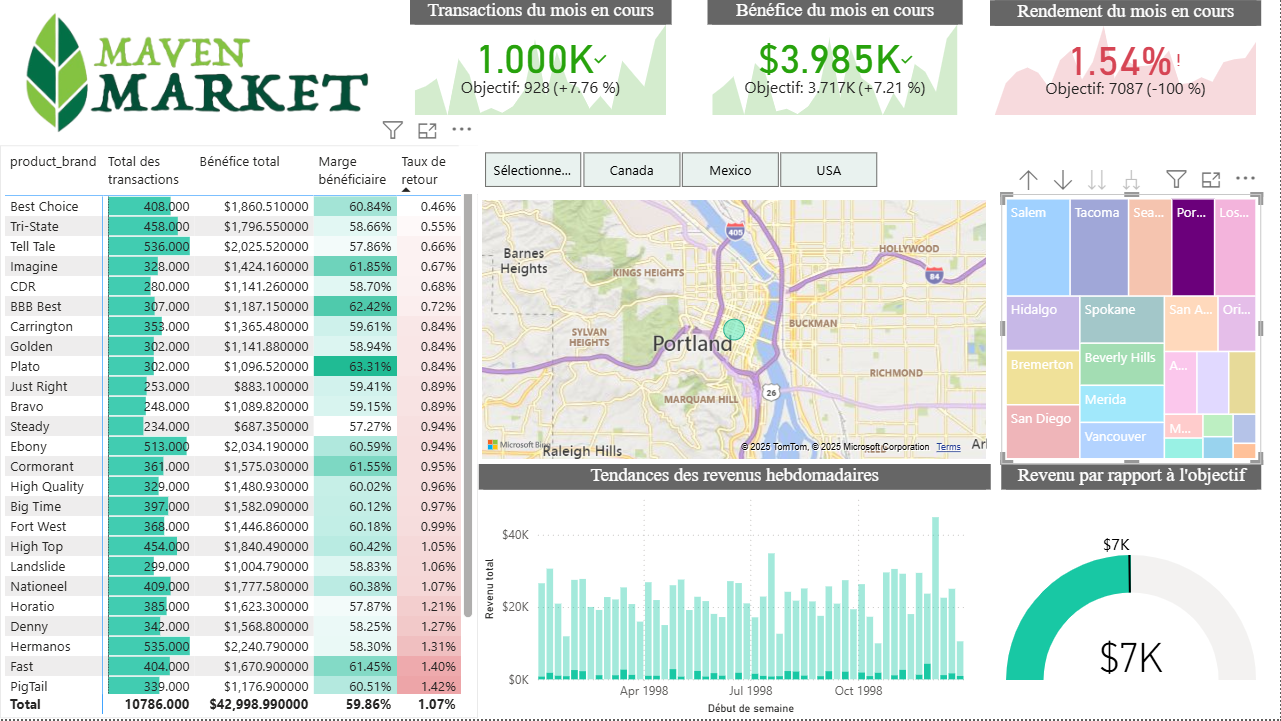

Layout of this report page (visuals, bound fields, positions):
{"tool":"powerbi","page":{"name":"Topline Performance","canvas":[1280,720],"ordinal":0},"visuals":[{"type":"pivotTable","fields":{"Rows":["Produits.product_brand"],"Values":["Transaction_Data.Total des transactions","Transaction_Data.Bénéfice total","Transaction_Data.Marge bénéficiaire","Return_Data.Taux de retour"]},"box":[0,146.2,477.5,573.8],"z":0},{"type":"kpi","title":"Transactions du mois en cours","fields":{"Indicator":["Transaction_Data.Total des transactions"],"TrendLine":["Calendrier.Début de mois"],"Goal":["Transaction_Data.Transactions du mois dernier"]},"box":[410,0,261.2,121.2],"z":1000},{"type":"kpi","title":"Bénéfice du mois en cours","fields":{"TrendLine":["Calendrier.Début de mois"],"Indicator":["Transaction_Data.Bénéfice total"],"Goal":["Transaction_Data.Bénéfice du mois dernier"]},"box":[707.5,0,255,121.2],"z":2000},{"type":"kpi","title":"Rendement du mois en cours","fields":{"TrendLine":["Calendrier.Début de mois"],"Indicator":["Return_Data.Taux de retour"],"Goal":["Return_Data.Retours du mois dernier"]},"box":[990,1.2,271.2,120],"z":3000},{"type":"map","fields":{"Category":["Stores.store_city"]},"box":[476.9,195.7,513.6,269],"z":4000},{"type":"treemap","fields":{"Values":["Transaction_Data.Total des transactions"],"Group":["Stores.Store_Country Hiérarchie.Store_Country","Stores.Store_Country Hiérarchie.store_state","Stores.Store_Country Hiérarchie.store_city"]},"box":[1001.2,195,260,270],"z":5000},{"type":"lineClusteredColumnComboChart","title":"Tendances des revenus hebdomadaires","fields":{"Y":["Transaction_Data.Revenu total"],"Category":["Calendrier.Année Hiérarchie.Année","Calendrier.Année Hiérarchie.Début de mois","Calendrier.Année Hiérarchie.Début de semaine"]},"box":[478.4,464.8,511.9,255.3],"z":6000},{"type":"gauge","title":"Revenu par rapport à l''objectif","fields":{"Y":["Transaction_Data.Revenu total"],"TargetValue":["Transaction_Data.Objectif de revenus"]},"box":[1001,465,260,255],"z":7000},{"type":"image","box":[0,0,391.6,146.2],"z":8000},{"type":"slicer","fields":{"Values":["Stores.Store_Country"]},"box":[460,135,590,48.8],"z":9000}]}

Visuals, with their boxes in screenshot pixels (x1, y1, x2, y2), scaled from the page's 1280x720 canvas onto the 1281x721 screenshot:
pivotTable - Produits.product_brand x Transaction_Data.Total des transactions: {"left": 0, "top": 146, "right": 478, "bottom": 720}
"Transactions du mois en cours" kpi: {"left": 410, "top": 0, "right": 672, "bottom": 121}
"Bénéfice du mois en cours" kpi: {"left": 708, "top": 0, "right": 963, "bottom": 121}
"Rendement du mois en cours" kpi: {"left": 991, "top": 1, "right": 1262, "bottom": 121}
map - Stores.store_city: {"left": 477, "top": 196, "right": 991, "bottom": 465}
treemap - Transaction_Data.Total des transactions x Stores.Store_Country Hiérarchie.Store_Country: {"left": 1002, "top": 195, "right": 1262, "bottom": 466}
"Tendances des revenus hebdomadaires" lineClusteredColumnComboChart: {"left": 479, "top": 465, "right": 991, "bottom": 720}
"Revenu par rapport à l''objectif" gauge: {"left": 1002, "top": 466, "right": 1262, "bottom": 720}
image: {"left": 0, "top": 0, "right": 392, "bottom": 146}
slicer - Stores.Store_Country: {"left": 460, "top": 135, "right": 1051, "bottom": 184}
